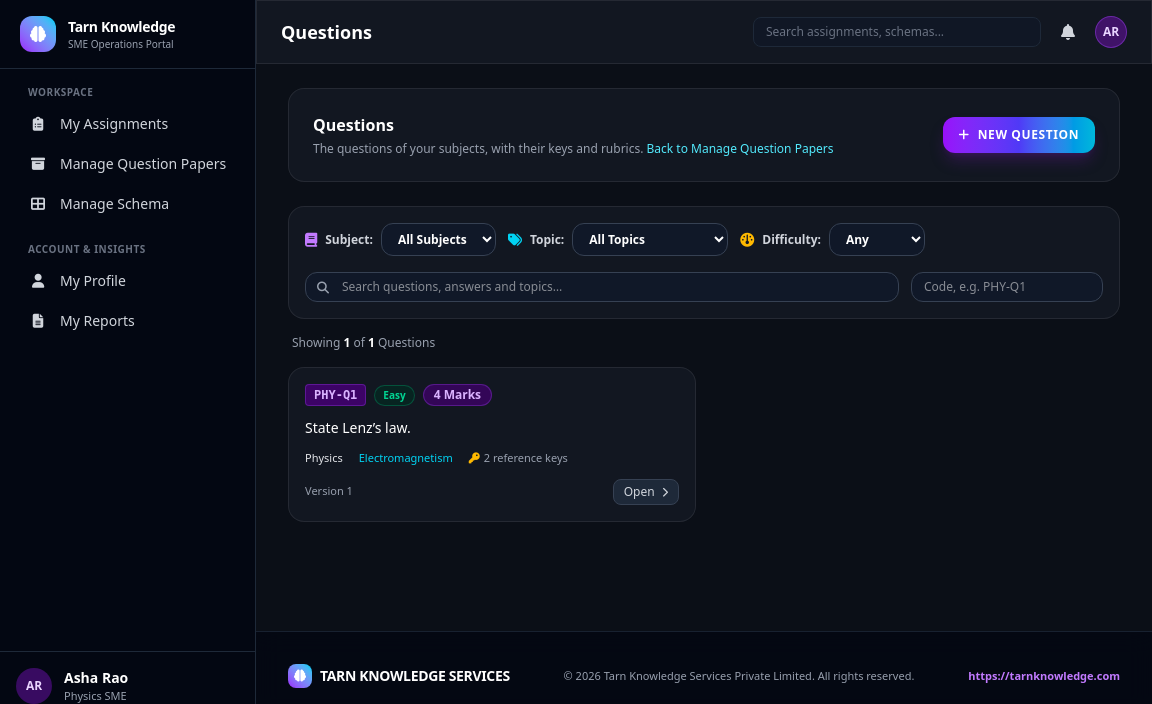
question detail › flags weights that do not add up
This screenshot has width=1152, height=704.
Click the button with aria-label "Open PHY-Q1" at [646, 492], box [613, 478, 679, 504]
(page scrolled)
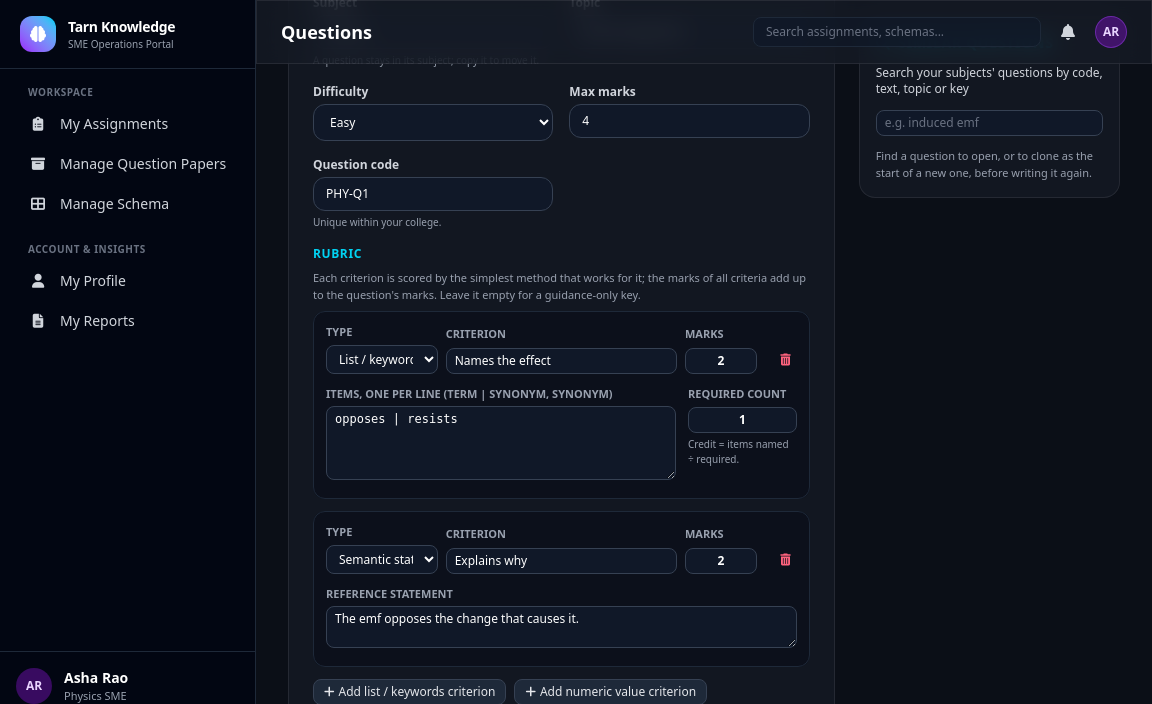
Replace the text in the field named "Criterion 1 weight" with "1" at [721, 360], box [685, 348, 757, 374]
(page scrolled)
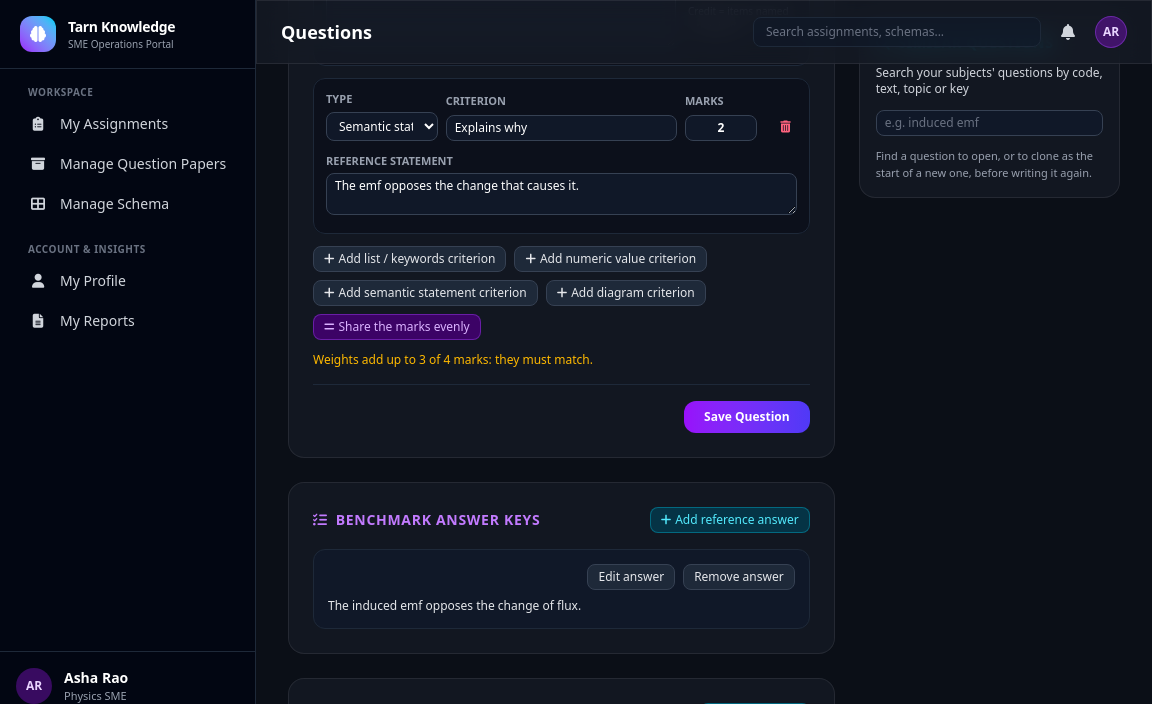
Result: the message reads "Weights add up to 3 of 4 marks: they must match." at [313, 351, 593, 368]
